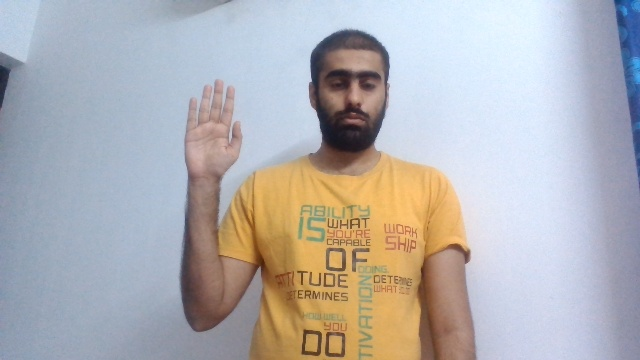paper: (183, 78, 243, 178)
